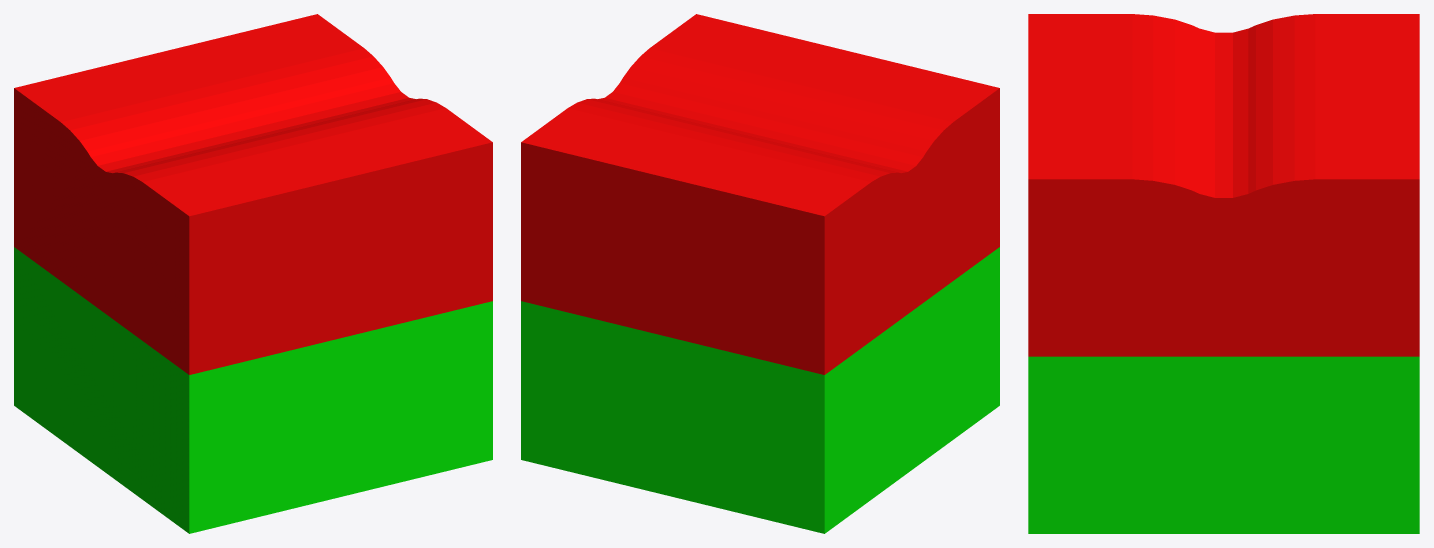
File: Farm Tile.fbx
3 views of the same model, side by side, from view 1: azimuth 30°, elevation 25°; view 2: azimuth 150°, elevation 25°; view 3: azimuth 270°, elevation 25° (orthographic). The views are drawn at different scales.
Parts seen in each view (by area): view 1: Cube.001; view 2: Cube.001; view 3: Cube.001.
Boxes of the visible parts, x1=… form: Cube.001: x1=14, y1=14, x2=492, y2=533; Cube.001: x1=521, y1=14, x2=999, y2=533; Cube.001: x1=1028, y1=14, x2=1419, y2=533.
Size of the model in its own units: 200 by 200 by 200.
